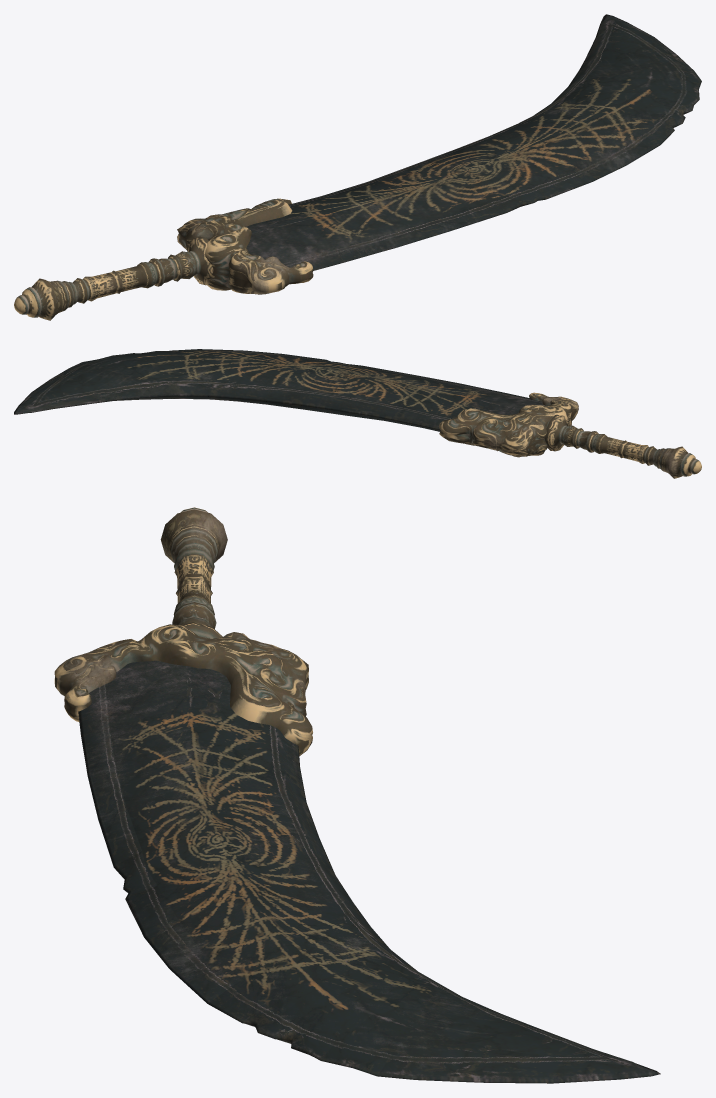
File: ka_pd_starscourge.glb
3 renders of one model, top to bottom at view 1: azimuth 30°, elevation 25°; view 2: azimuth 150°, elevation 25°; view 3: azimuth 270°, elevation 25°, orthographic. The views are drawn at different scales.
Parts seen in each view (by area): view 1: StarscourgeGreatsword; view 2: StarscourgeGreatsword; view 3: StarscourgeGreatsword.
Boxes of the visible parts, <box> form: StarscourgeGreatsword: <box>14,14,701,320</box>; StarscourgeGreatsword: <box>14,349,701,478</box>; StarscourgeGreatsword: <box>54,507,660,1083</box>.
Bounding box in the file's own units: 125 × 8.06 × 56.81.
Materials: 1 (1 with a texture image).
